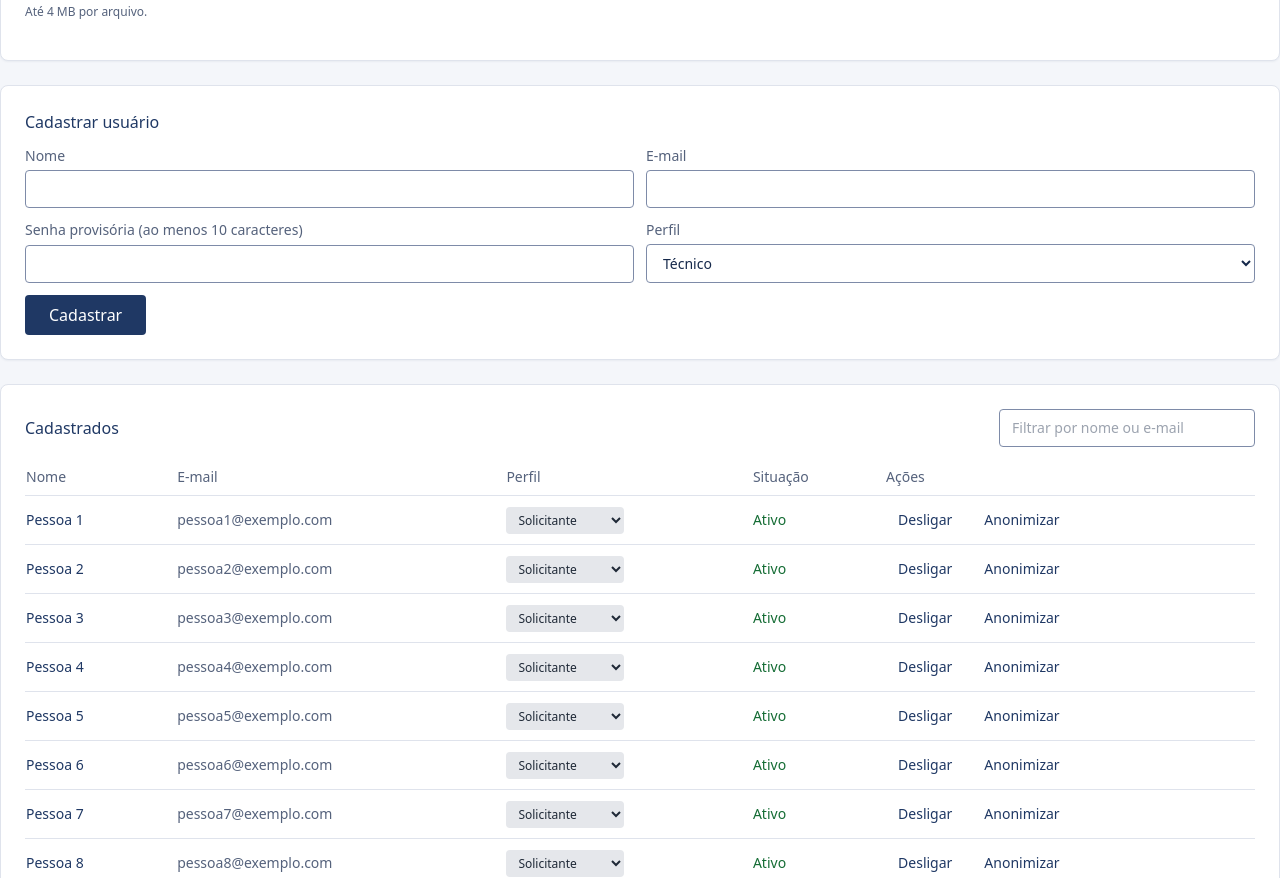
Scenario: Lista longa de contas › filtro sem resultado diz isso, em vez de "nenhum usuário cadastrado"
(page scrolled)
Type "zzzz" into the search field named "Filtrar usuários por nome ou e-mail" at point(1127, 428), box left=999, top=409, right=1255, bottom=447
(page scrolled)
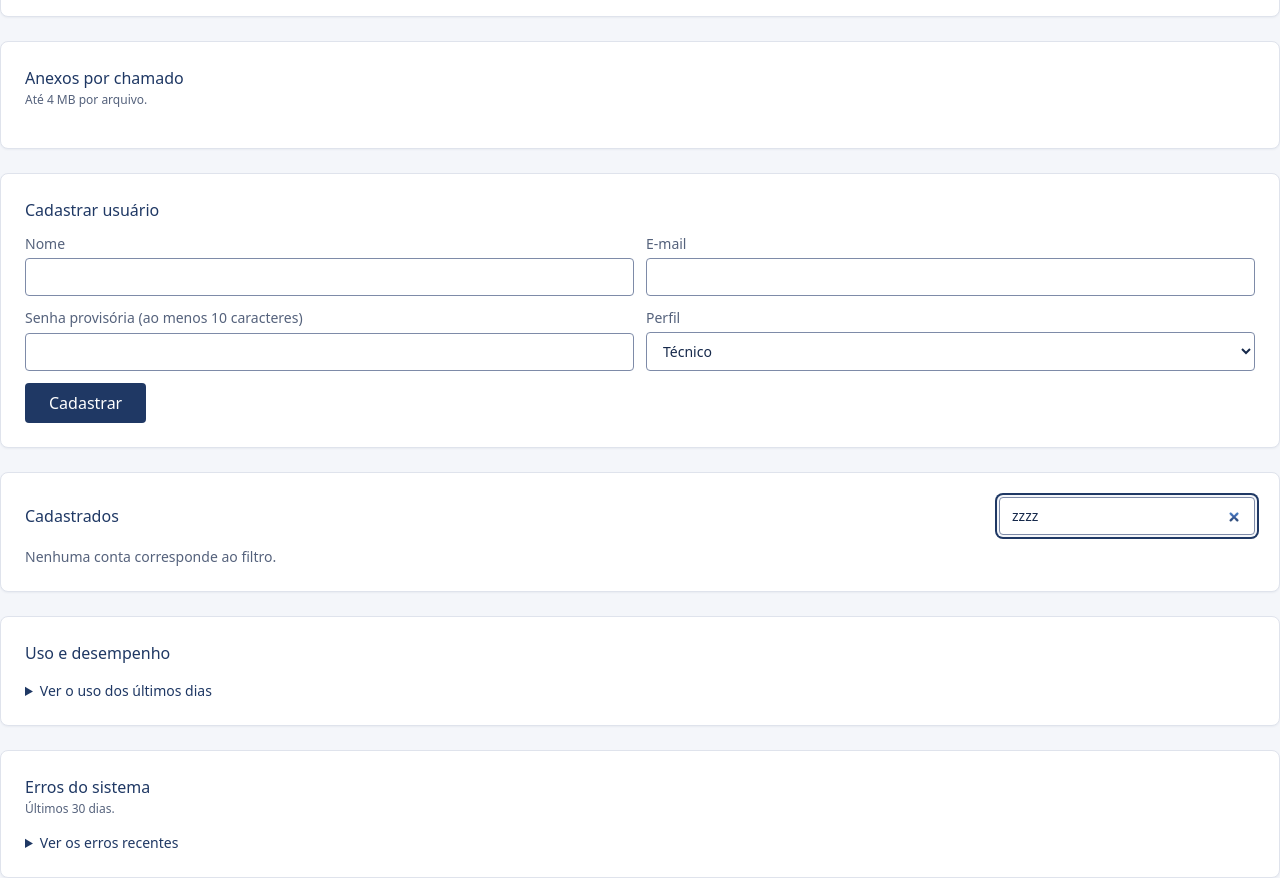
Now the text "Nenhuma conta corresponde ao filtro." is shown, box left=25, top=547, right=276, bottom=566
